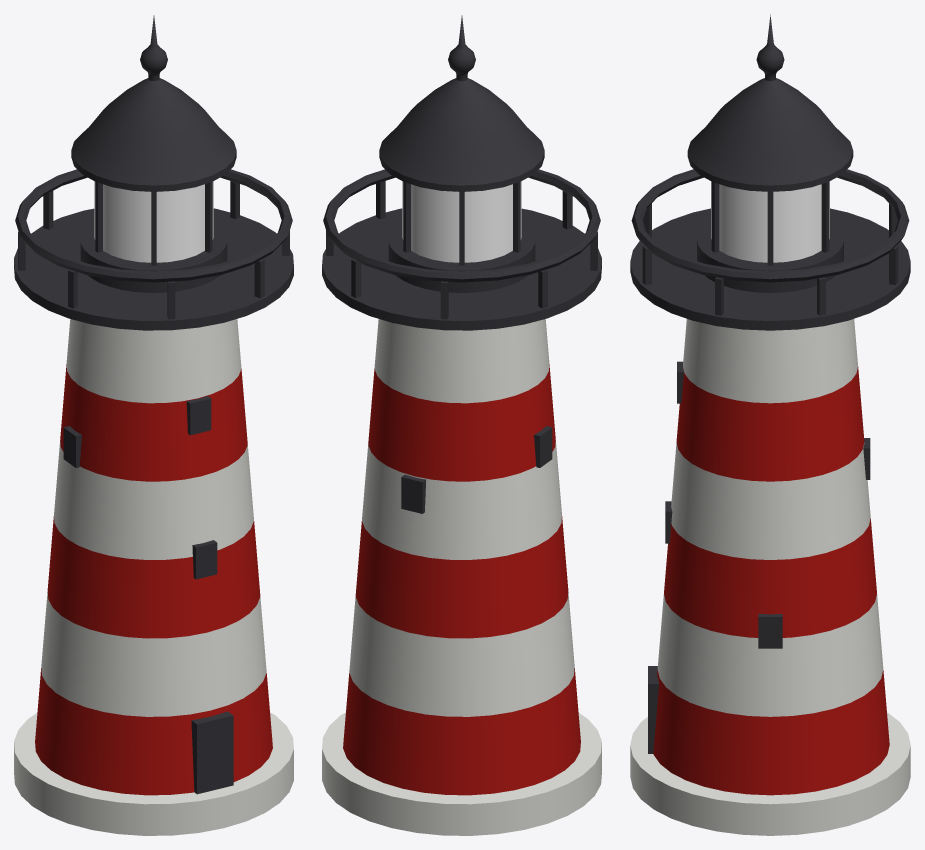
Rendered from lighthouse.obj.
3 views of the same model, side by side, from view 1: azimuth 30°, elevation 25°; view 2: azimuth 150°, elevation 25°; view 3: azimuth 270°, elevation 25° (orthographic).
Parts seen in each view (by area): view 1: LH_Tower_White, LH_Metal, LH_Tower_Red, LH_Glass; view 2: LH_Tower_White, LH_Tower_Red, LH_Metal, LH_Glass; view 3: LH_Tower_White, LH_Tower_Red, LH_Metal, LH_Glass.
Part boxes in pixels (<box>): LH_Tower_White: <box>14,319,293,835</box>; LH_Metal: <box>14,15,293,794</box>; LH_Tower_Red: <box>35,364,272,795</box>; LH_Glass: <box>94,181,213,262</box>; LH_Tower_White: <box>322,319,601,835</box>; LH_Tower_Red: <box>343,364,580,795</box>; LH_Metal: <box>322,15,601,513</box>; LH_Glass: <box>402,181,521,262</box>; LH_Tower_White: <box>630,319,910,835</box>; LH_Tower_Red: <box>653,366,889,795</box>; LH_Metal: <box>630,14,910,753</box>; LH_Glass: <box>711,181,829,262</box>.
Size of the model in its own units: 0.4 by 1.2 by 0.4.
